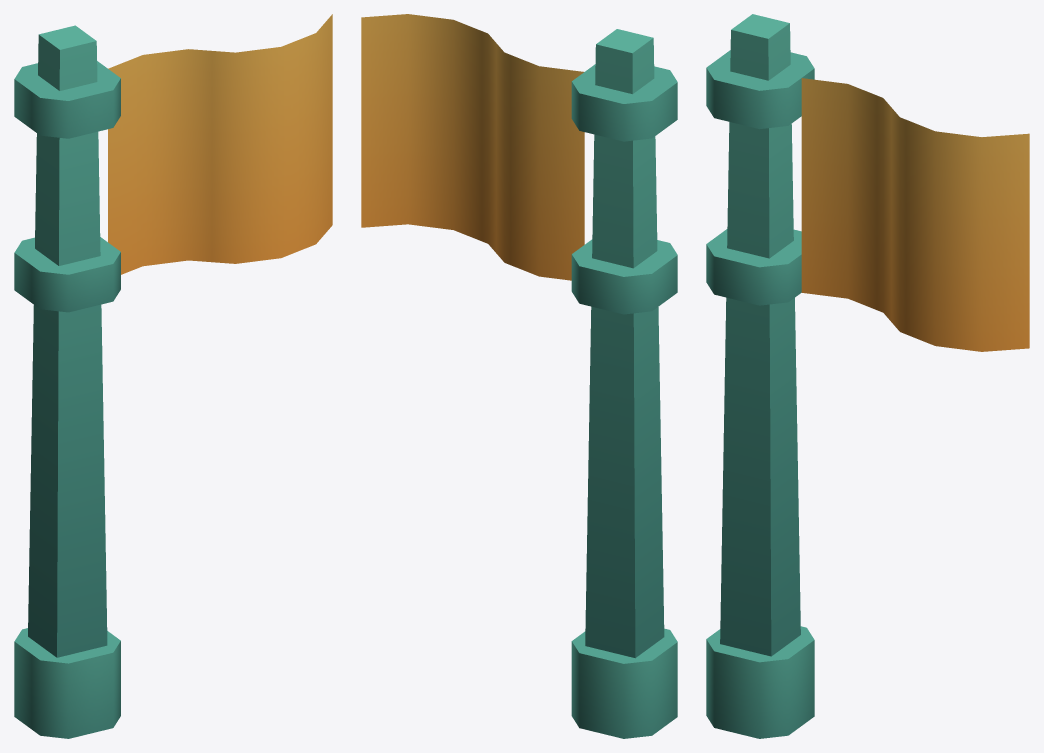
The model's file is flag.glb.
3 renders of one model, left to right at view 1: azimuth 30°, elevation 25°; view 2: azimuth 150°, elevation 25°; view 3: azimuth 330°, elevation 25°, orthographic. The views are drawn at different scales.
Visible parts, largest first — view 1: flag; view 2: flag; view 3: flag.
Part boxes in pixels (x1,y1,x2,y2): flag: (14, 14, 332, 738); flag: (361, 14, 677, 738); flag: (706, 14, 1029, 738).
Size of the model in its own units: 0.4235 by 0.9 by 0.112.
